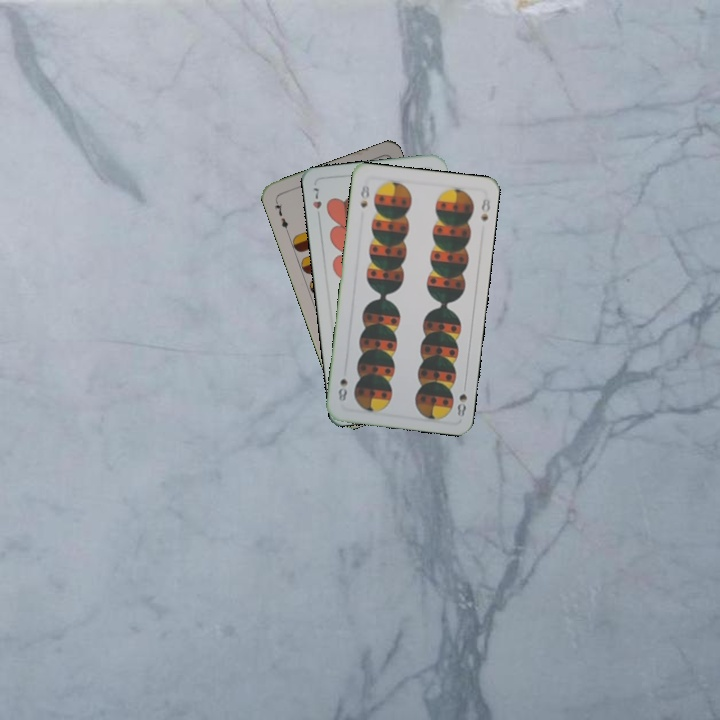E7: (271, 196, 291, 236)
H7: (309, 184, 324, 222)
S8: (453, 379, 469, 419), (356, 181, 372, 210)
